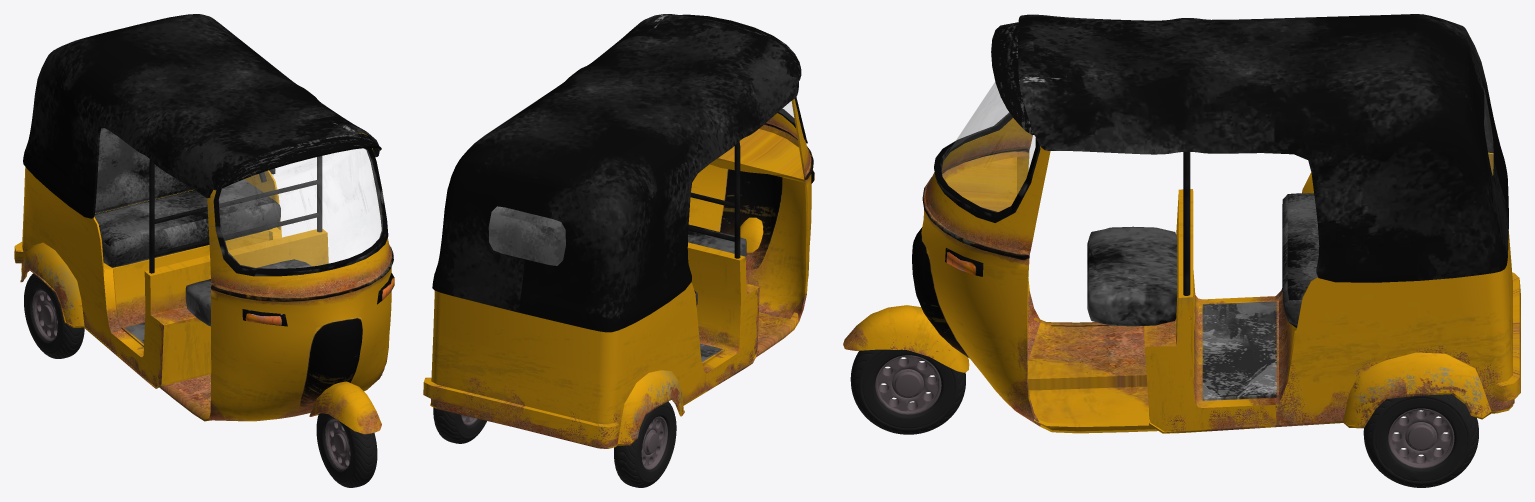
The model's file is auto.glb.
3 views of the same model, side by side, from view 1: azimuth 30°, elevation 25°; view 2: azimuth 150°, elevation 25°; view 3: azimuth 270°, elevation 25° (orthographic). The views are drawn at different scales.
Parts seen in each view (by area): view 1: Plane.001_Body_01_0, Plane.002_Top_0, Plane.003_Glass_0, Rin_Llanta_0, Rin_Metal Rin_0; view 2: Plane.002_Top_0, Plane.001_Body_01_0, Rin_Llanta_0, Plane.003_Glass_0, Rin_Metal Rin_0; view 3: Plane.002_Top_0, Plane.001_Body_01_0, Rin_Llanta_0, Plane.003_Glass_0, Rin_Metal Rin_0.
Part boxes in pixels (x1=…): Plane.001_Body_01_0: x1=14, y1=133, x2=394, y2=434; Plane.002_Top_0: x1=23, y1=14, x2=379, y2=326; Plane.003_Glass_0: x1=219, y1=148, x2=382, y2=268; Rin_Llanta_0: x1=24, y1=273, x2=377, y2=487; Rin_Metal Rin_0: x1=32, y1=289, x2=350, y2=470; Plane.002_Top_0: x1=432, y1=14, x2=798, y2=332; Plane.001_Body_01_0: x1=423, y1=14, x2=814, y2=448; Rin_Llanta_0: x1=433, y1=401, x2=676, y2=487; Plane.003_Glass_0: x1=489, y1=101, x2=794, y2=265; Rin_Metal Rin_0: x1=461, y1=415, x2=667, y2=469; Plane.002_Top_0: x1=1018, y1=14, x2=1508, y2=327; Plane.001_Body_01_0: x1=843, y1=22, x2=1520, y2=433; Rin_Llanta_0: x1=850, y1=349, x2=1478, y2=487; Plane.003_Glass_0: x1=941, y1=82, x2=1493, y2=212; Rin_Metal Rin_0: x1=875, y1=355, x2=1454, y2=468.
Bounding box in the file's own units: 1.24 × 1.82 × 2.89.
Materials: 5 (3 with a texture image).
